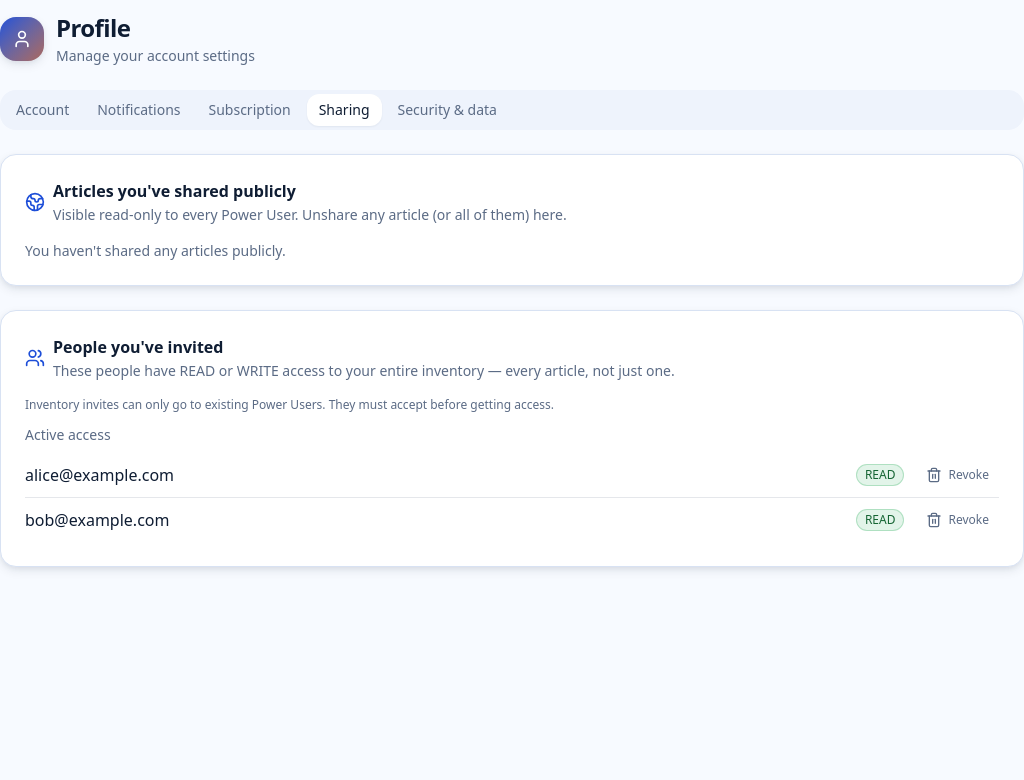
Test case: <ProfileView /> sharing reload race › drops a superseded reload that would resurrect a revoked person
Expected: the text "alice@example.com" is shown, [25,464,174,486]
Expected: the text "bob@example.com" is shown, [25,509,170,531]
# Revoke Alice → reload #2 is issued and left in flight.
Click the button "Revoke" in the row of "alice@example.com" at [958, 475], box [916,461,999,489]
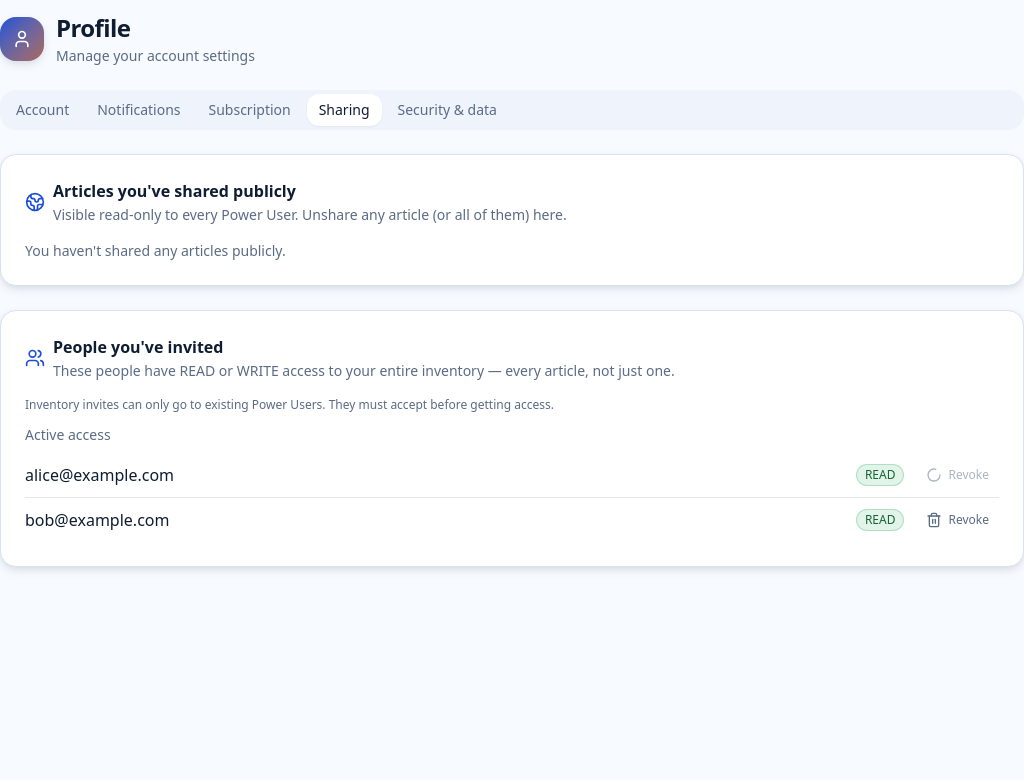
Click the button "Revoke" in the row of "bob@example.com" at [958, 520], box [916,506,999,534]
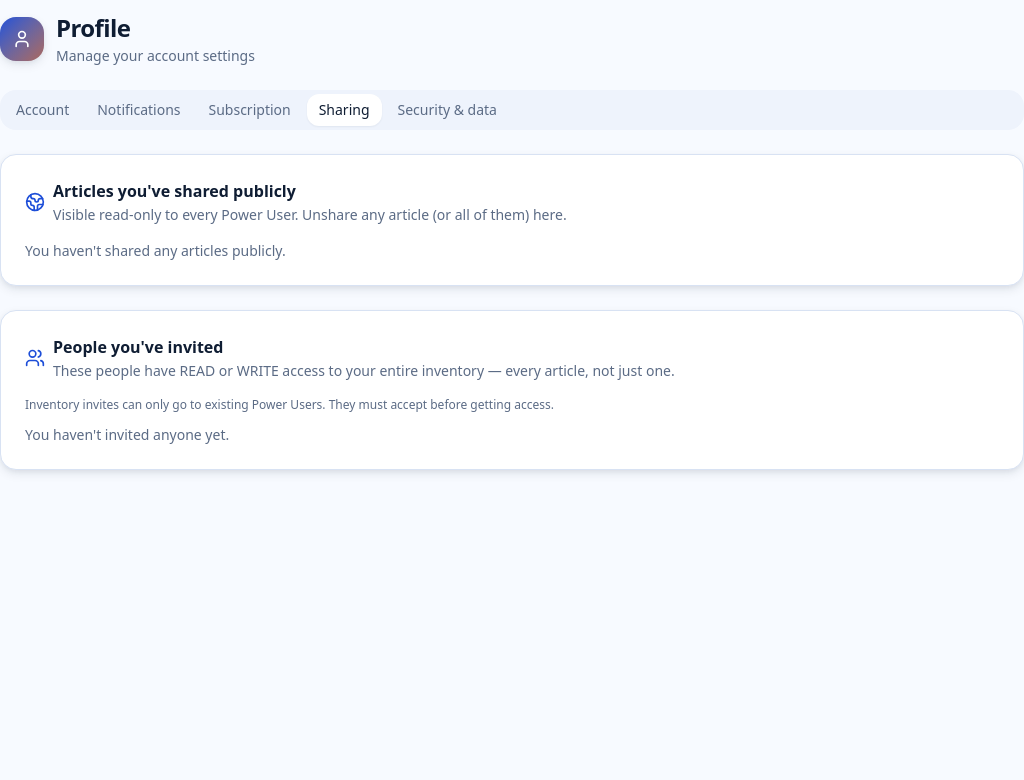
Expected: the text "bob@example.com" is gone
Expected: the text "alice@example.com" is gone
